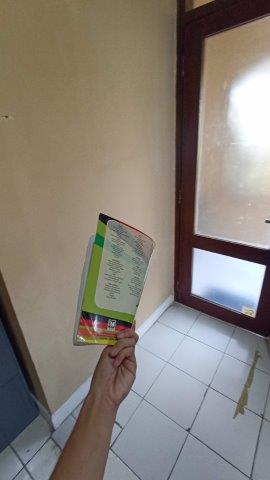kertas: (76, 214, 153, 348)
